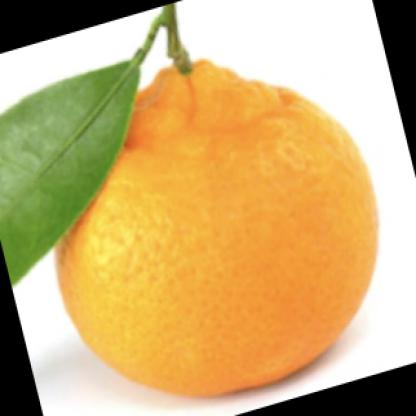orange: (40, 33, 380, 403)
